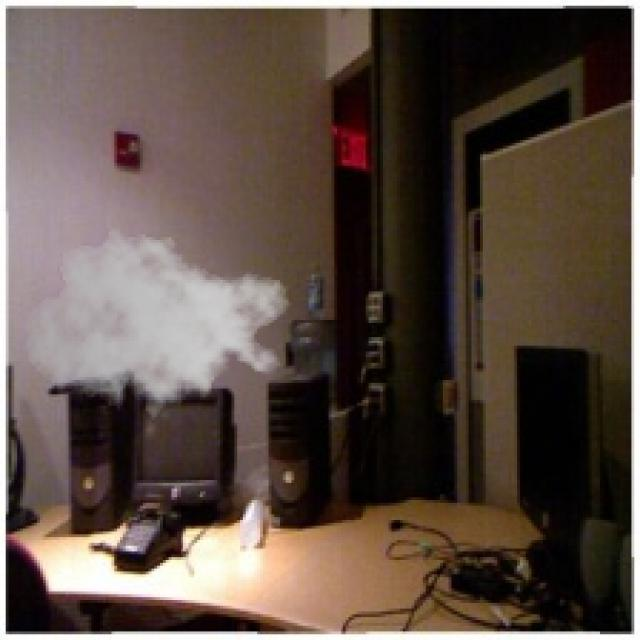Smoke: (22, 223, 292, 428)
